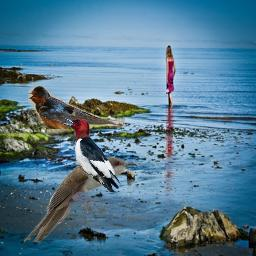Cuckoo: (24, 157, 137, 242)
Swallow: (28, 85, 126, 129)
Woodpecker: (59, 115, 122, 192)
